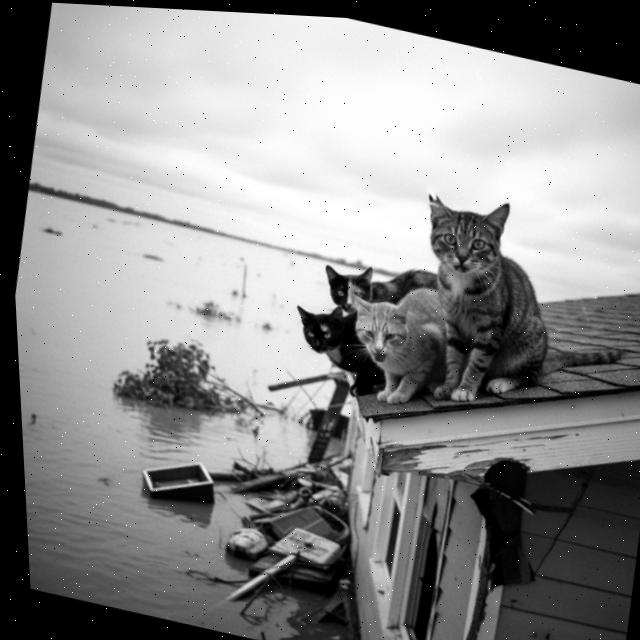cat: (383, 176, 640, 451), (321, 264, 467, 429), (280, 301, 414, 416), (311, 244, 456, 346)
